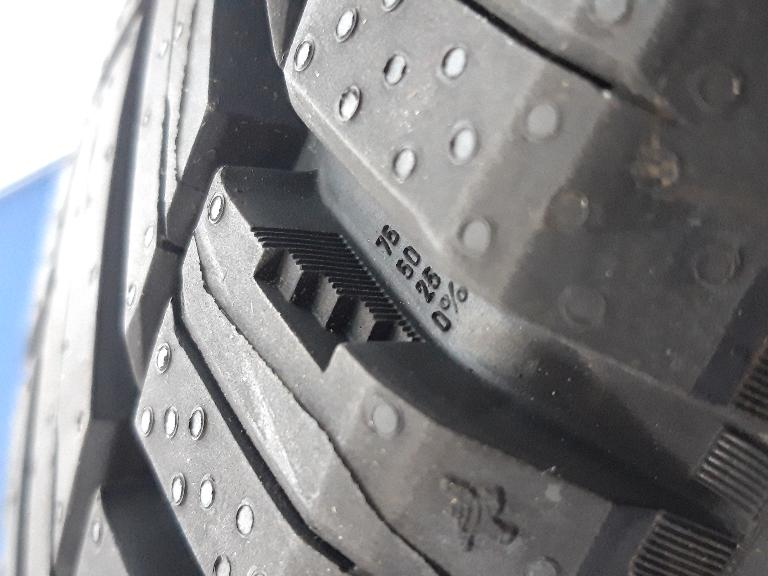temoin:100: (237, 221, 436, 383)
